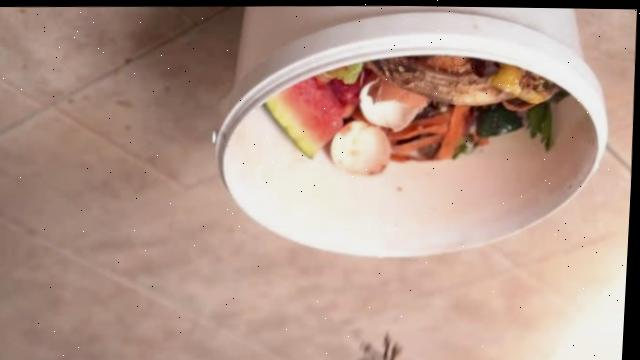Garbage: (261, 53, 571, 177)
